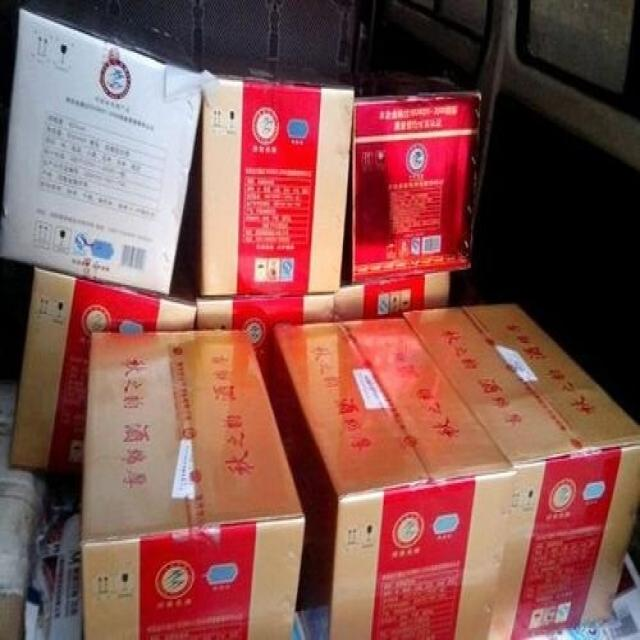box: (263, 316, 515, 638), (401, 300, 639, 638), (81, 327, 304, 638), (9, 261, 198, 475), (200, 53, 354, 295), (337, 58, 483, 286), (196, 294, 336, 384), (334, 272, 451, 323)
